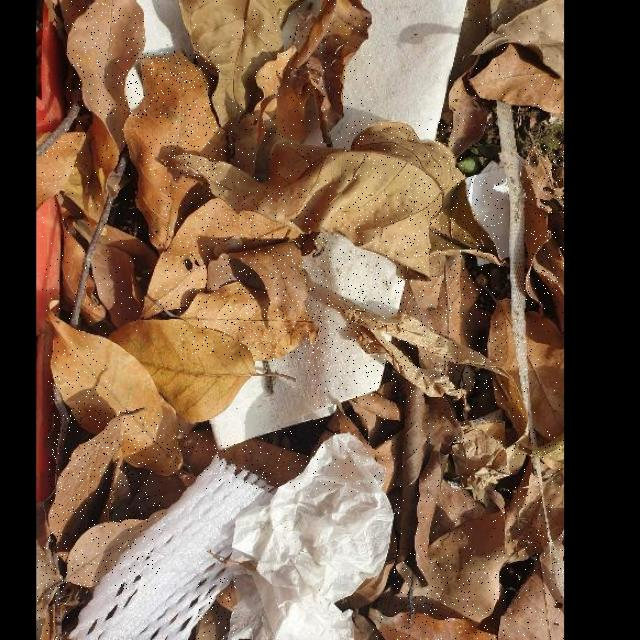biowaste: (167, 148, 444, 281), (232, 0, 372, 190), (43, 118, 164, 332), (48, 309, 186, 477), (309, 280, 503, 397), (395, 449, 513, 623), (403, 387, 529, 548), (142, 194, 304, 314), (129, 51, 220, 257), (180, 240, 319, 361), (48, 408, 163, 545), (110, 317, 254, 424), (184, 1, 292, 127), (66, 1, 146, 152), (468, 0, 564, 114), (487, 302, 563, 442), (400, 251, 492, 361), (314, 393, 406, 493), (62, 509, 165, 588), (348, 121, 464, 190), (180, 429, 310, 490), (508, 431, 564, 560), (424, 178, 504, 267), (498, 536, 564, 640), (524, 139, 564, 308), (469, 44, 564, 115), (372, 613, 497, 640), (450, 75, 490, 156), (38, 542, 68, 640), (198, 578, 236, 640)
